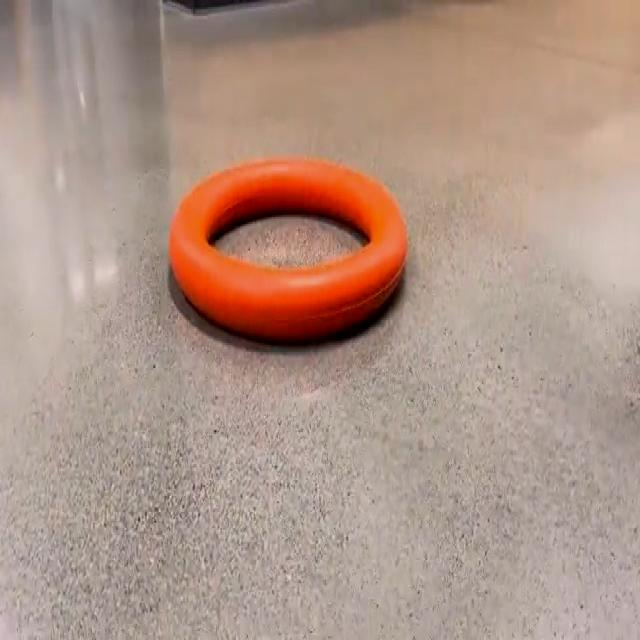note: (169, 158, 408, 341)
